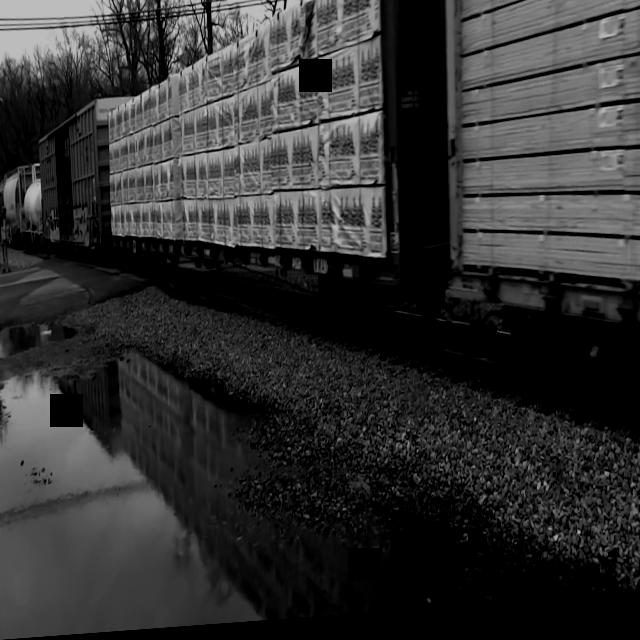boxcar: (32, 96, 107, 272)
flatcar_bulkhead: (94, 0, 436, 353), (429, 0, 640, 444)
tank: (21, 175, 44, 248)
